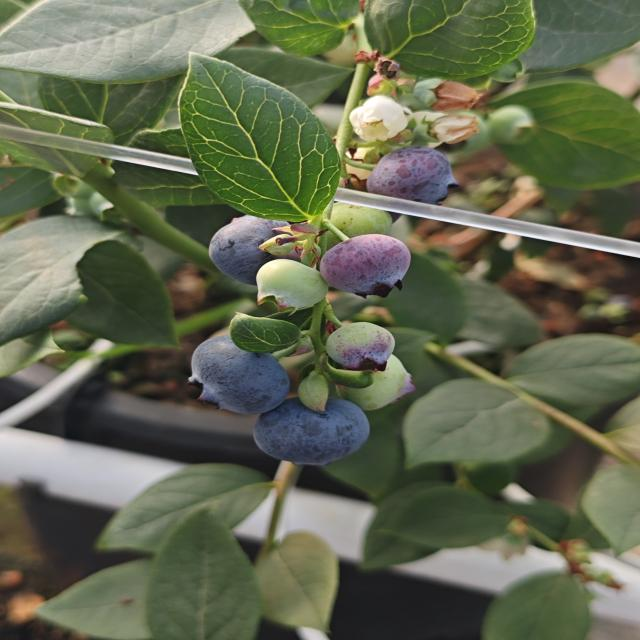ripe: (251, 394, 372, 468), (186, 333, 292, 417), (206, 214, 302, 288), (317, 232, 413, 300), (364, 144, 458, 206)
